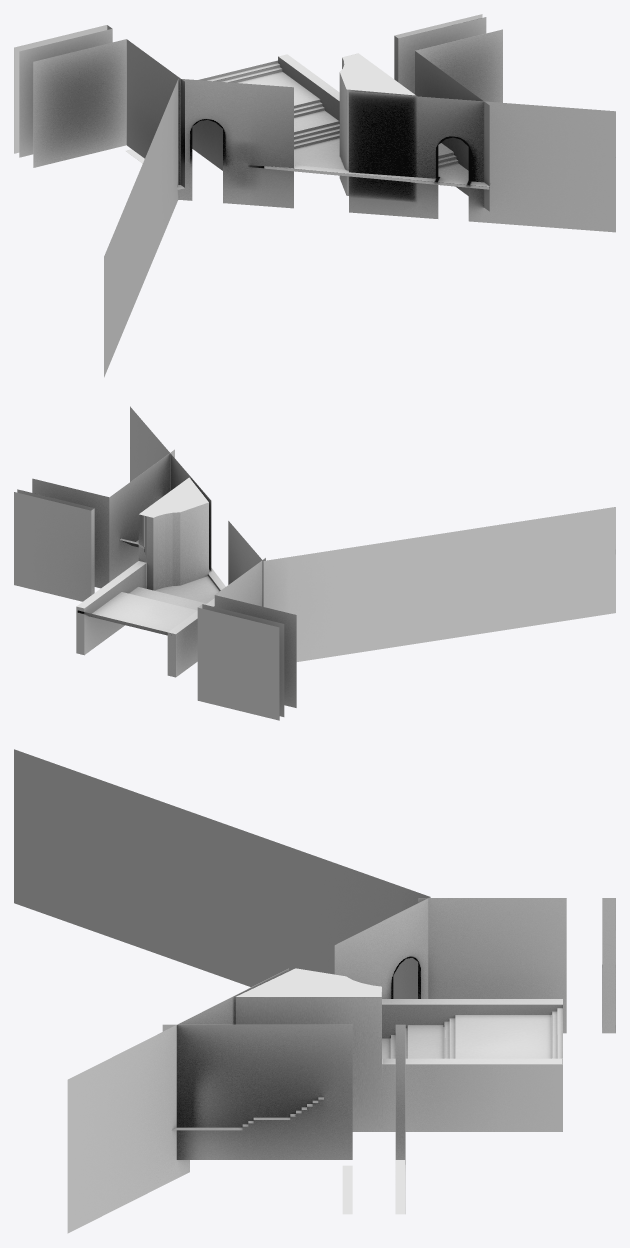
File: stairs.glb
The picture shows the model from 3 angles, top to bottom: view 1: azimuth 30°, elevation 25°; view 2: azimuth 150°, elevation 25°; view 3: azimuth 270°, elevation 25°; orthographic projection. The views are drawn at different scales.
Parts seen in each view (by area): view 1: Plane.005; view 2: Plane.005; view 3: Plane.005.
Boxes of the visible parts, <box> form: Plane.005: <box>14,14,615,377</box>; Plane.005: <box>14,406,615,720</box>; Plane.005: <box>14,749,615,1233</box>.
Size of the model in its own units: 47.15 by 10.24 by 36.29.
Materials: 1 (1 with a texture image).
